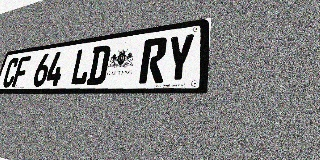4: (44, 51, 67, 86)
6: (31, 53, 53, 87)
C: (1, 57, 20, 87)
D: (86, 45, 111, 85)
F: (11, 56, 31, 87)
L: (69, 47, 93, 86)
R: (139, 37, 168, 84)
Y: (164, 33, 195, 83)
